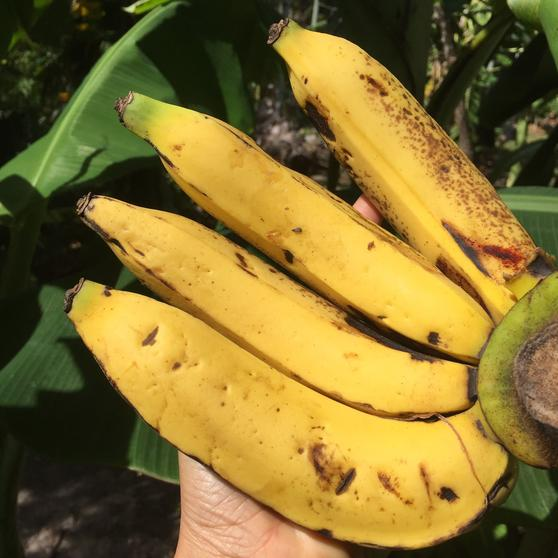banana: (62, 272, 521, 550), (75, 166, 484, 421), (268, 18, 558, 306)
